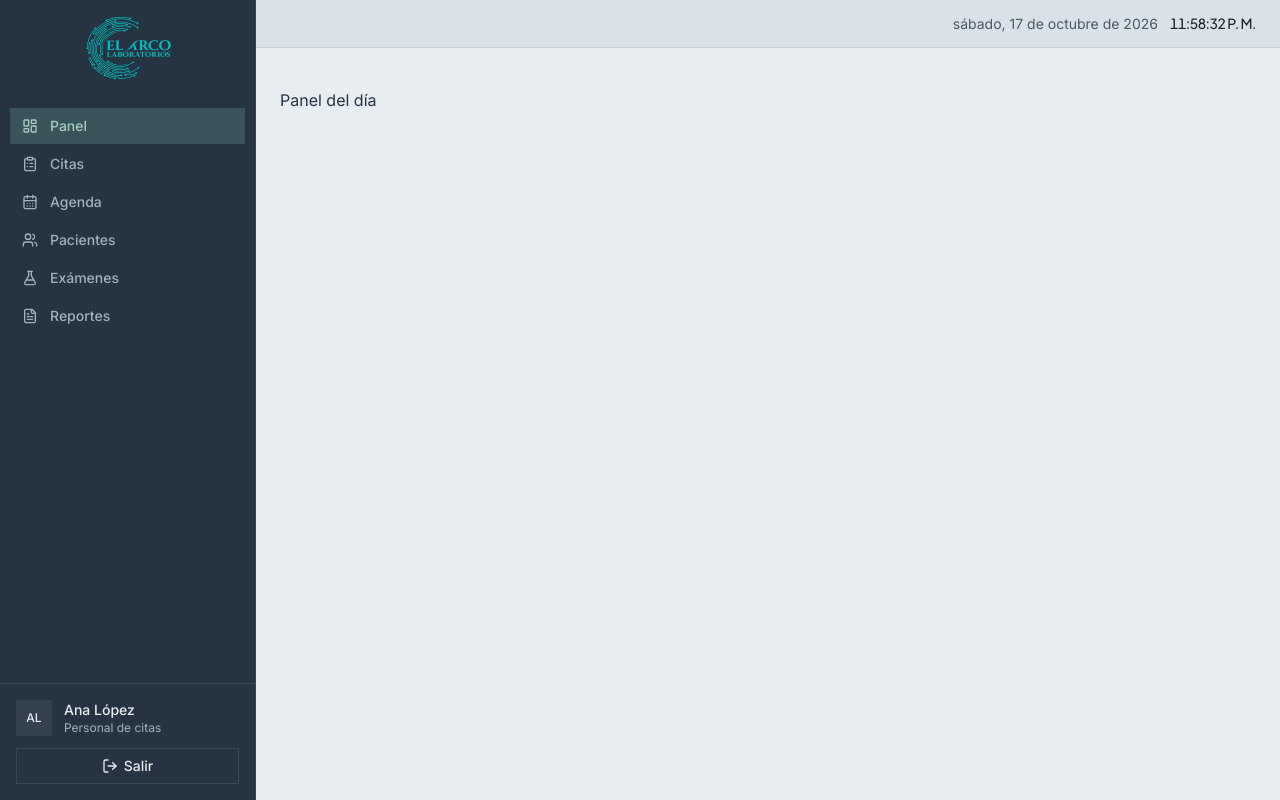
it: Cerrar sesión › no cierra la sesión con solo pulsar el botón
expect the text "Panel del día" is shown: met, box [280, 90, 376, 110]
expect the text "Ana López" is shown: met, box [64, 701, 135, 718]
Click the button "Salir" at (128, 766), box [16, 748, 239, 784]
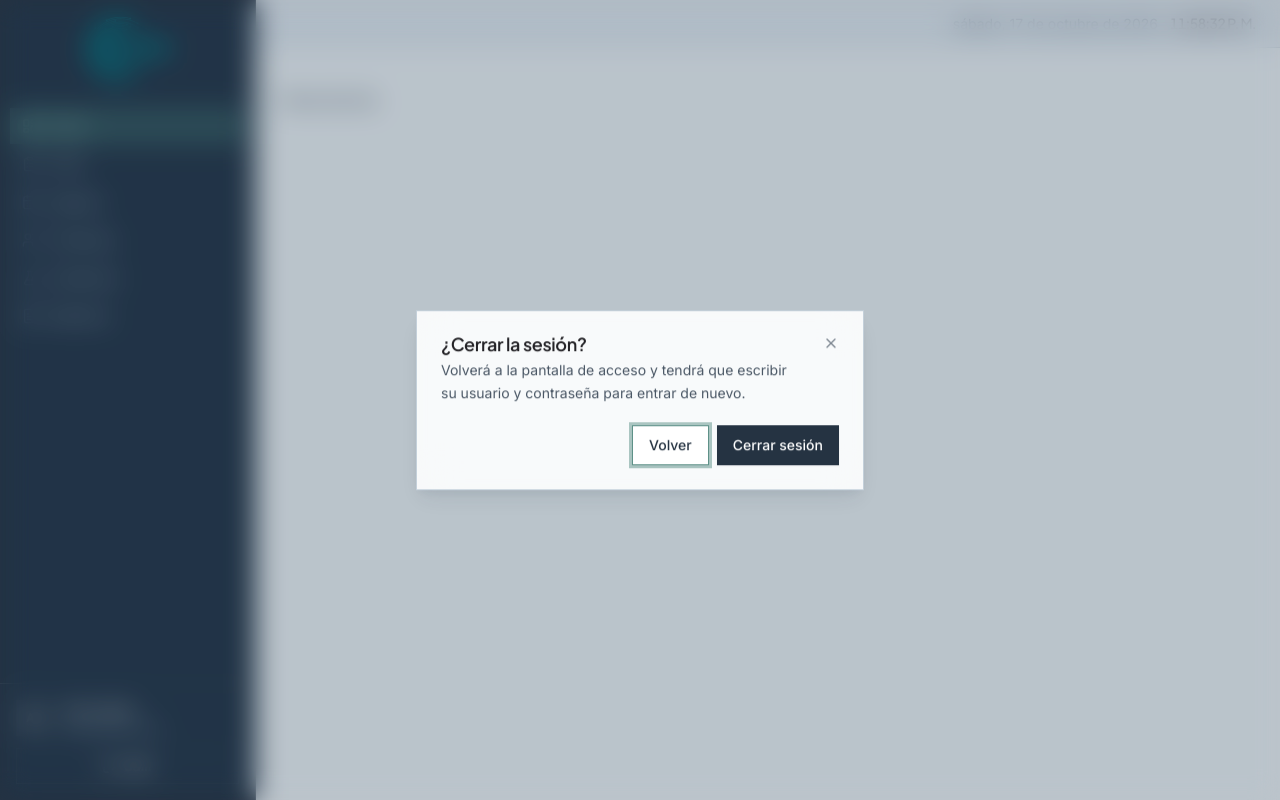
expect the dialog shows "¿Cerrar la sesión?": met, box [441, 332, 587, 355]
